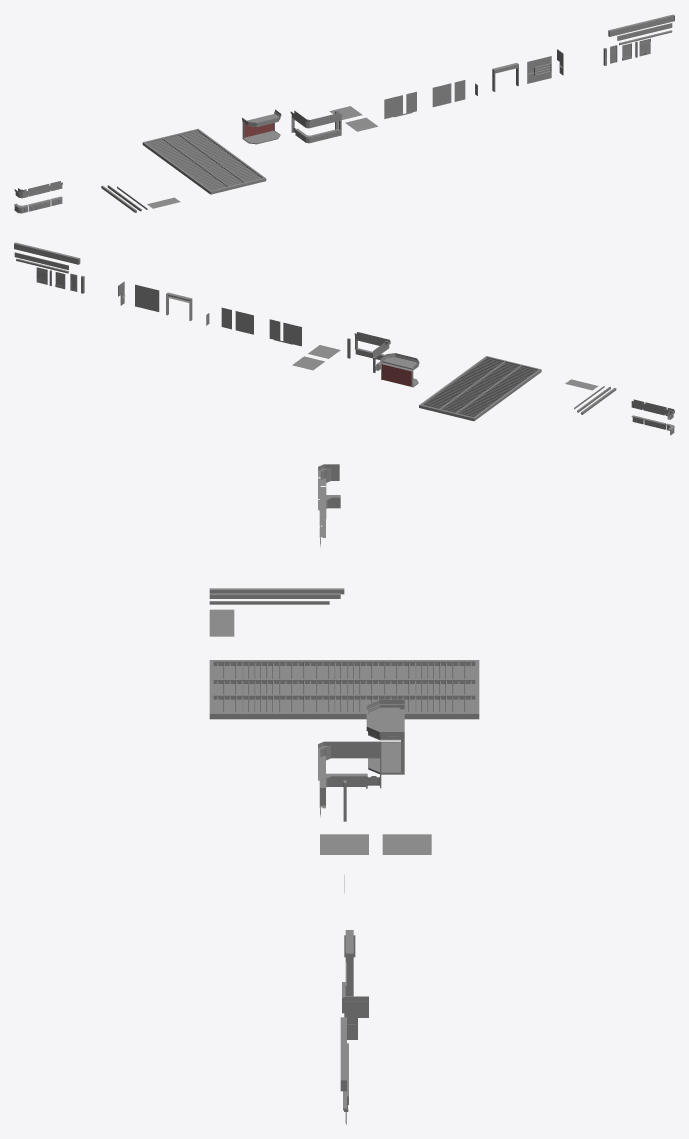
The model's file is SM_Structure.FBX.
The picture shows the model from 3 angles, top to bottom: view 1: azimuth 30°, elevation 25°; view 2: azimuth 150°, elevation 25°; view 3: azimuth 270°, elevation 25°; orthographic projection. The views are drawn at different scales.
Parts seen in each view (by area): view 1: ceiling, stage, bar_back, bar_top, entrance_top_03, wall_3-5m_dens, bar_bottom, wall_3-5m; view 2: ceiling, stage, bar_back, entrance_top_03, bar_top, wall_3-5m, wall_3-5m_dens; view 3: ceiling, stage, bar_top, floor_dens, floor.
Boxes of the visible parts, x1,y1,x2,y2 form: ceiling: (142, 128, 266, 194); stage: (242, 109, 281, 144); bar_back: (527, 56, 551, 83); bar_top: (290, 110, 342, 132); entrance_top_03: (608, 14, 674, 36); wall_3-5m_dens: (432, 83, 451, 107); bar_bottom: (295, 128, 341, 143); wall_3-5m: (384, 95, 402, 118); ceiling: (419, 356, 541, 421); stage: (380, 353, 419, 387); bar_back: (135, 284, 159, 311); entrance_top_03: (14, 242, 80, 264); bar_top: (354, 332, 390, 372); wall_3-5m: (283, 322, 301, 346); wall_3-5m_dens: (235, 311, 253, 334); ceiling: (209, 660, 479, 719); stage: (366, 700, 404, 774); bar_top: (318, 741, 381, 805); floor_dens: (382, 834, 431, 854); floor: (320, 834, 368, 854).
Bounding box in the file's own units: 12362 × 611 × 2200.
